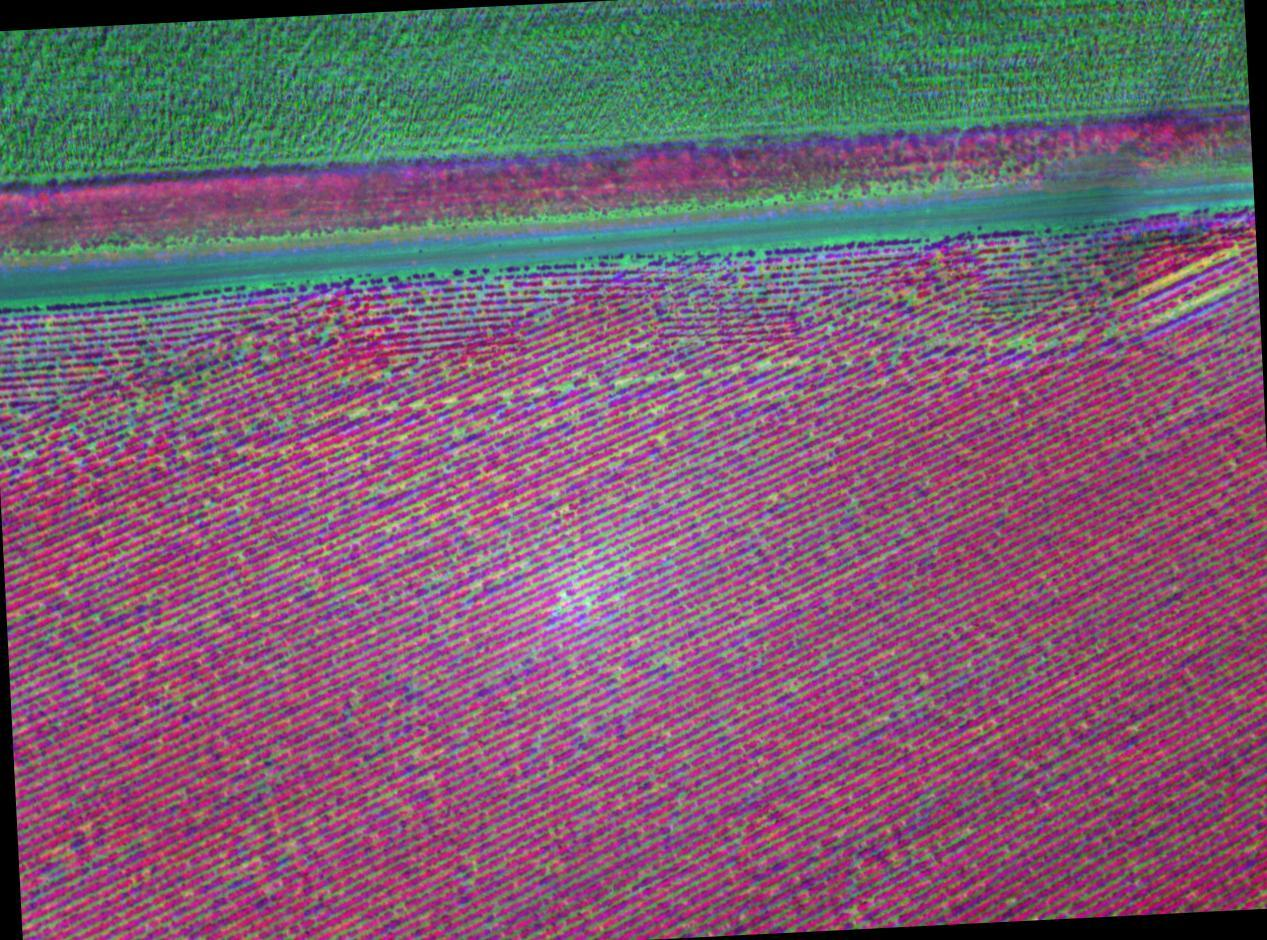dc: (353, 410, 361, 416), (449, 398, 455, 404), (470, 858, 474, 861), (771, 495, 775, 497), (610, 501, 613, 503), (672, 540, 675, 542), (665, 659, 668, 661), (542, 421, 544, 423)
